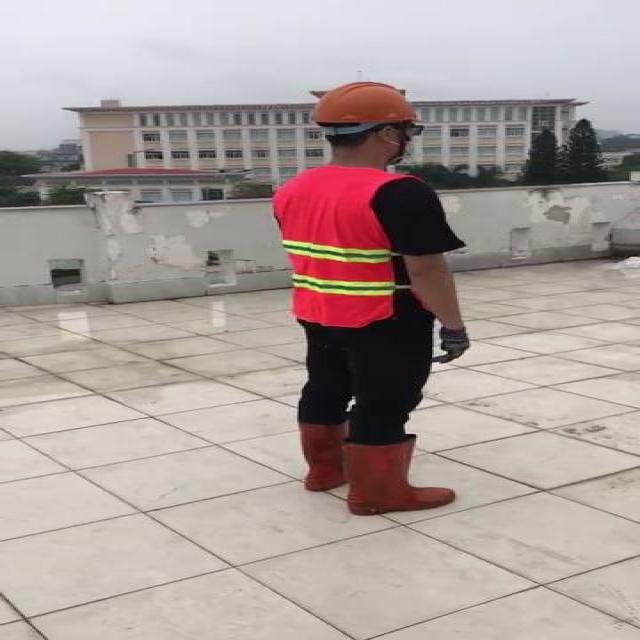boots: (341, 436, 457, 516), (294, 422, 346, 495)
hand_glove: (436, 326, 474, 369)
head_helmet: (306, 79, 423, 127)
person: (260, 74, 480, 520)
vest: (272, 164, 414, 328)
